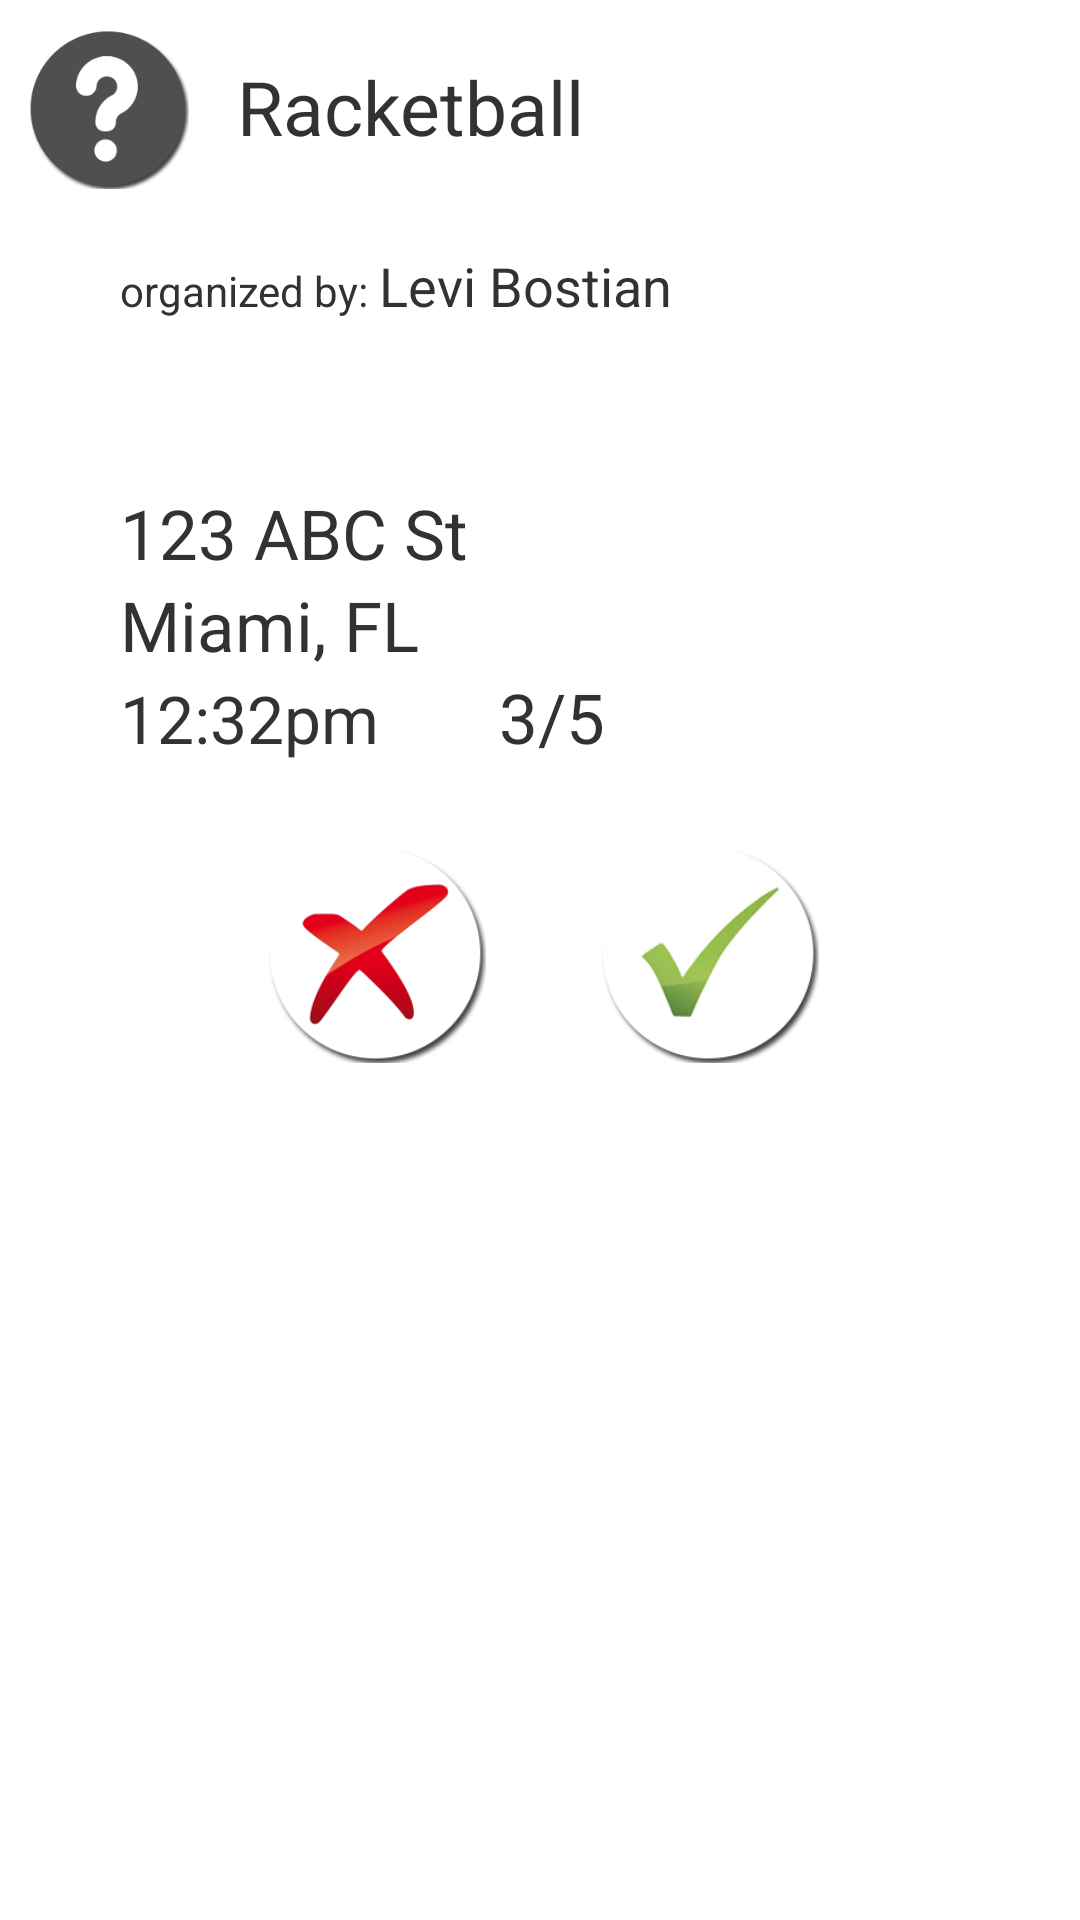

Named icons in this screenshot (1080×1920) and their centers, (x=x, y=y):
greencheck: (x=714, y=966)
questionmark: (x=109, y=110)
redx: (x=381, y=966)
